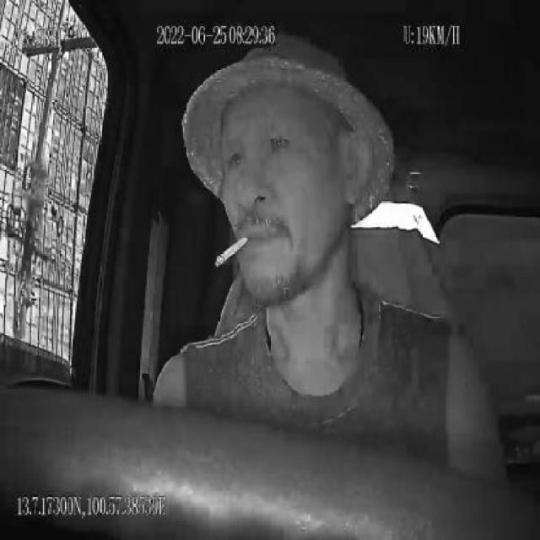smoking: (214, 234, 248, 266)
